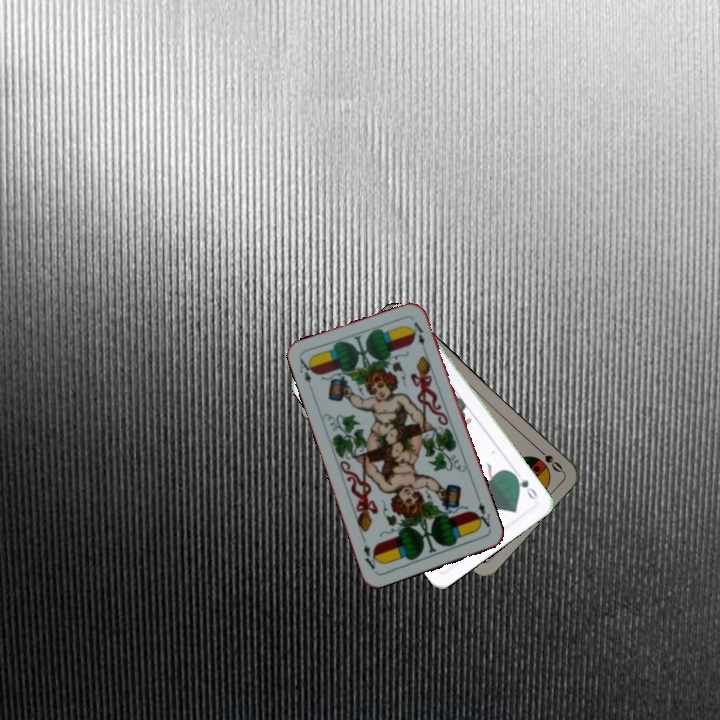EA: (471, 498, 493, 533), (295, 355, 316, 386)
GO: (509, 470, 540, 503)
SO: (532, 443, 565, 475)
